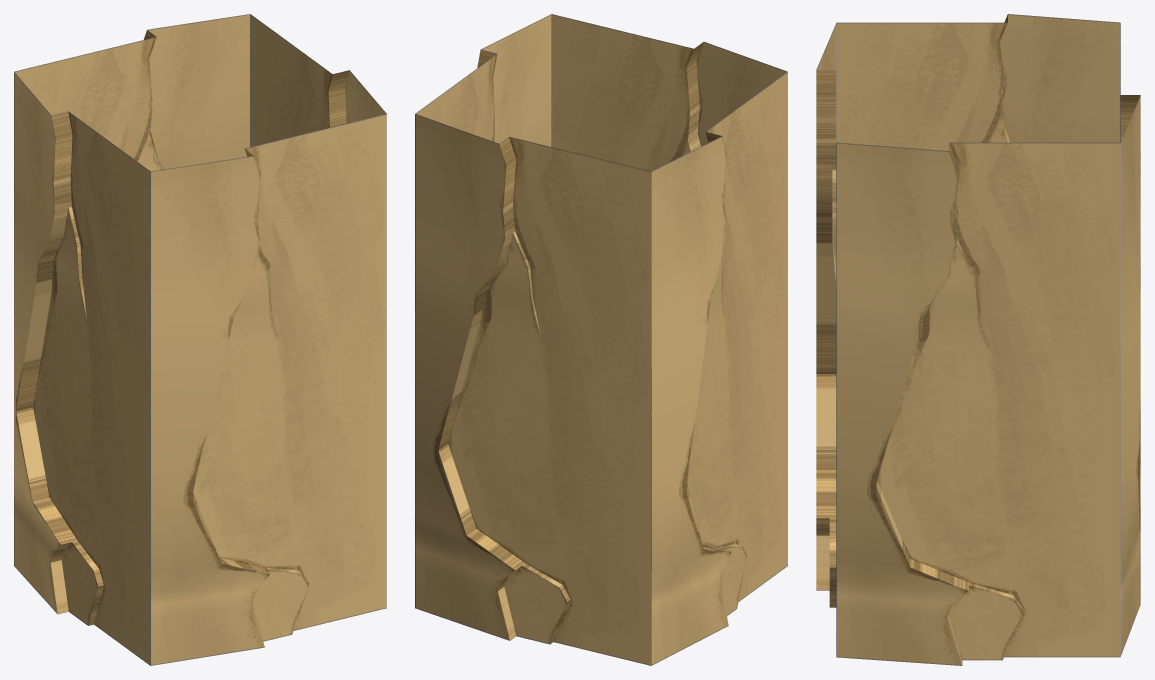
Rendered from wall_4.obj.
The picture shows the model from 3 angles, left to right: view 1: azimuth 30°, elevation 25°; view 2: azimuth 150°, elevation 25°; view 3: azimuth 270°, elevation 25°; orthographic projection. The views are drawn at different scales.
Visible parts, largest first — view 1: polySurface42; view 2: polySurface42; view 3: polySurface42.
Boxes of the visible parts, bbox=[...] form: polySurface42: bbox=[14, 14, 386, 665]; polySurface42: bbox=[415, 14, 787, 665]; polySurface42: bbox=[816, 14, 1140, 665].
Size of the model in its own units: 2.29 by 4 by 2.29.
